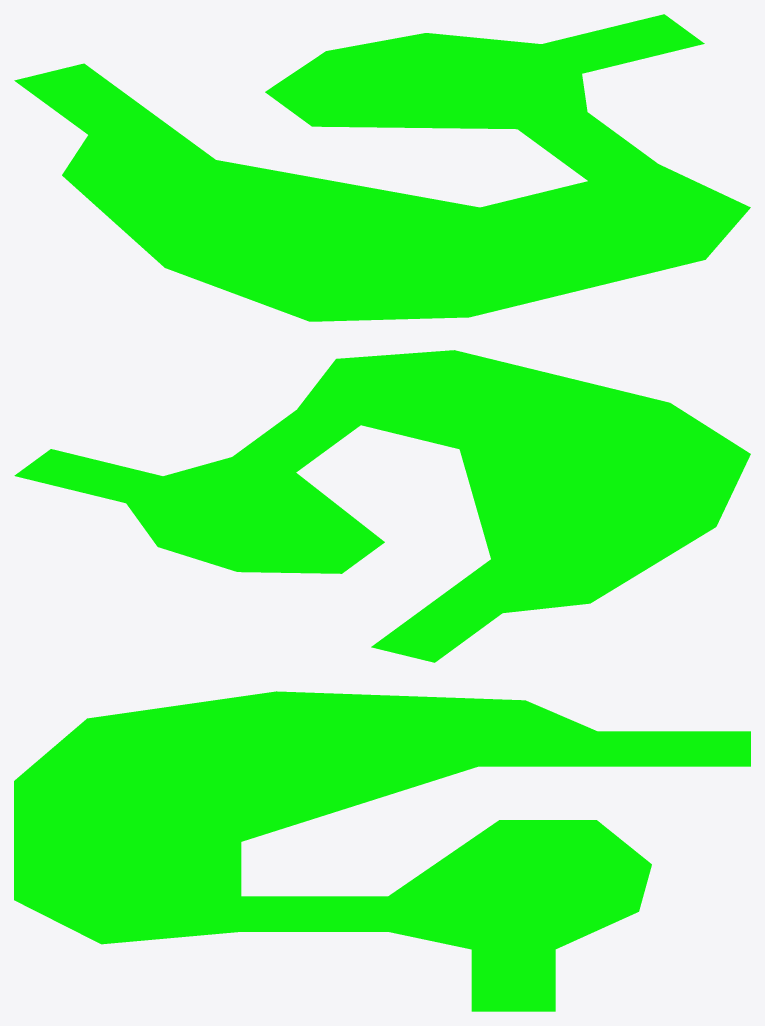
Rendered from s03b_lc2-floor.glb.
3 renders of one model, top to bottom at view 1: azimuth 30°, elevation 25°; view 2: azimuth 150°, elevation 25°; view 3: azimuth 270°, elevation 25°, orthographic. The views are drawn at different scales.
Visible parts, largest first — view 1: collision_floor-colonly; view 2: collision_floor-colonly; view 3: collision_floor-colonly.
Part boxes in pixels (x1=…): collision_floor-colonly: x1=14, y1=14, x2=750, y2=321; collision_floor-colonly: x1=14, y1=350, x2=750, y2=662; collision_floor-colonly: x1=14, y1=691, x2=750, y2=1011.
Size of the model in its own units: 54.24 by 0 by 52.78.
